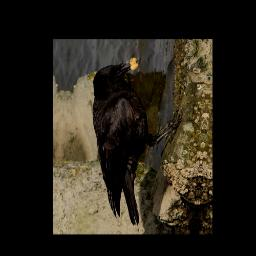Crow: (79, 55, 188, 228)
